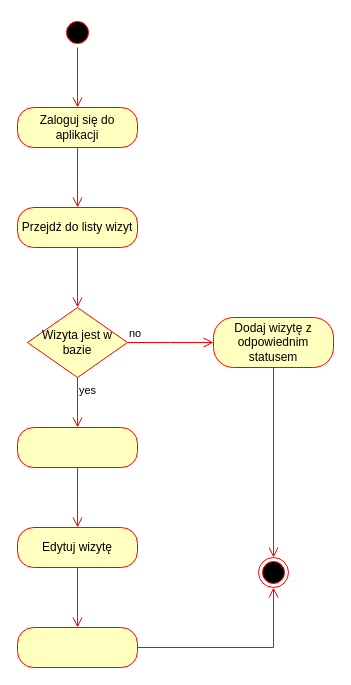
The diagram is 351 pixels wide and 685 high, and some of its shapes have lost their labels. Each missing label, with the centre of its shape:
"Nadaj odpowiedni status" belongs at point (77, 647).
"Znajdź wizytę" belongs at point (77, 447).
